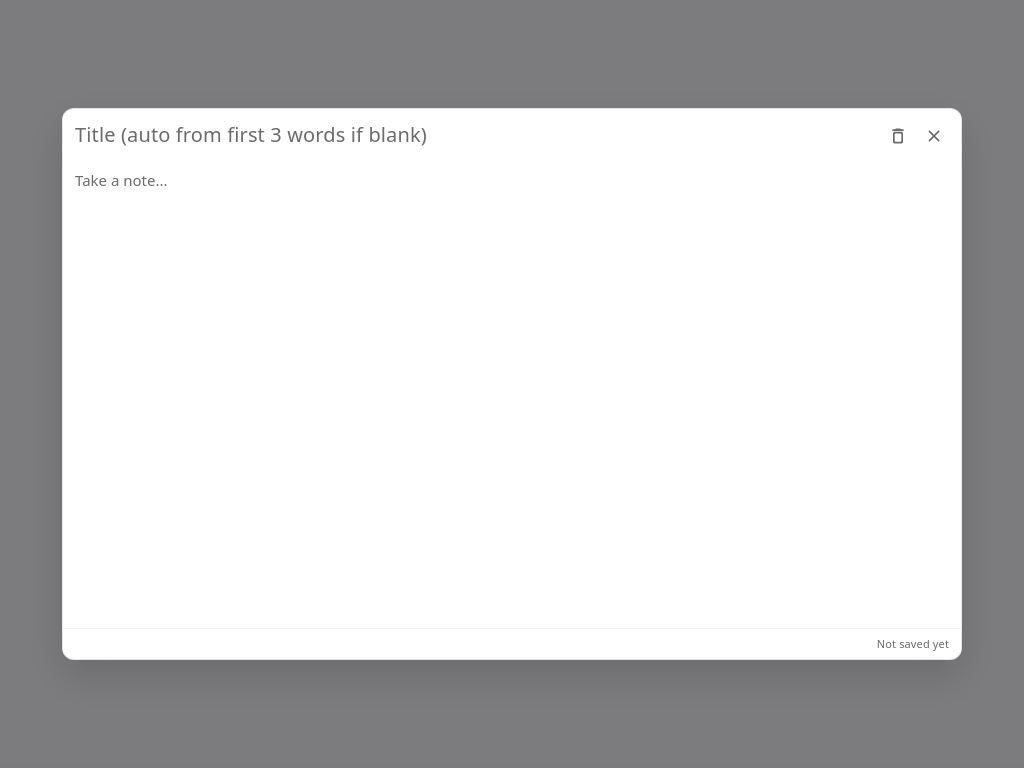
Test: ScratchPadEditor — plain Google-Keep surface › Cancel in the delete modal closes the confirm dialog but keeps the editor open
Click the button named "Delete tile". click: (898,136)
box: [883,121,913,151]
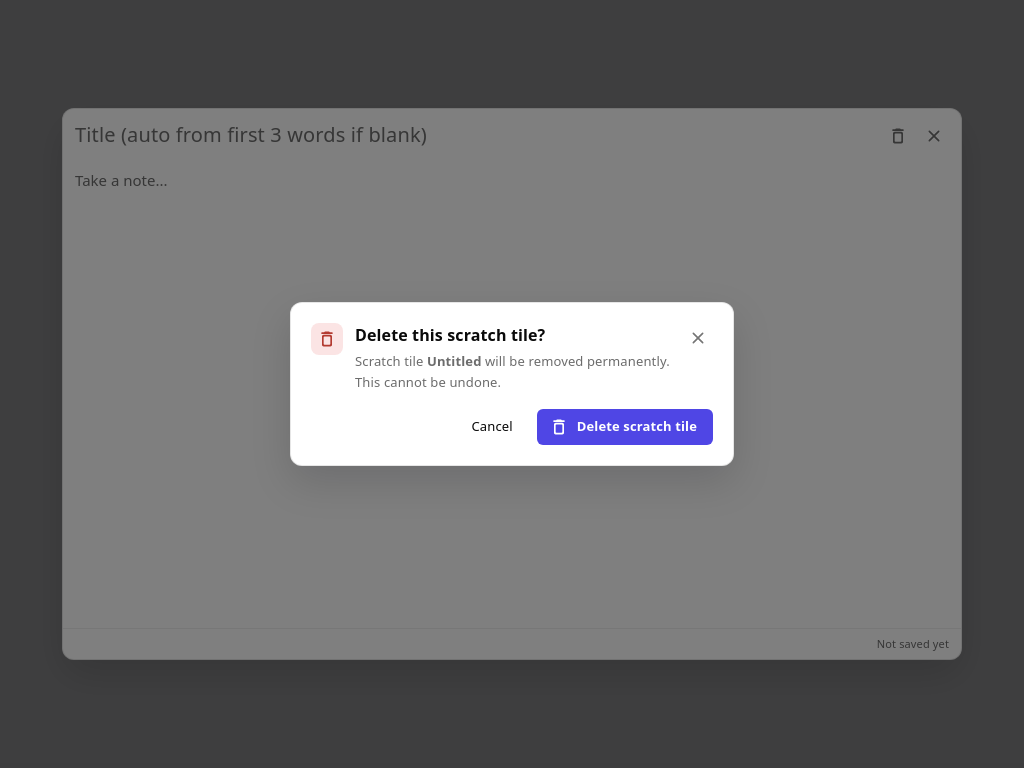
Click the button "Cancel". click: (492,427)
box: [456,409,529,445]
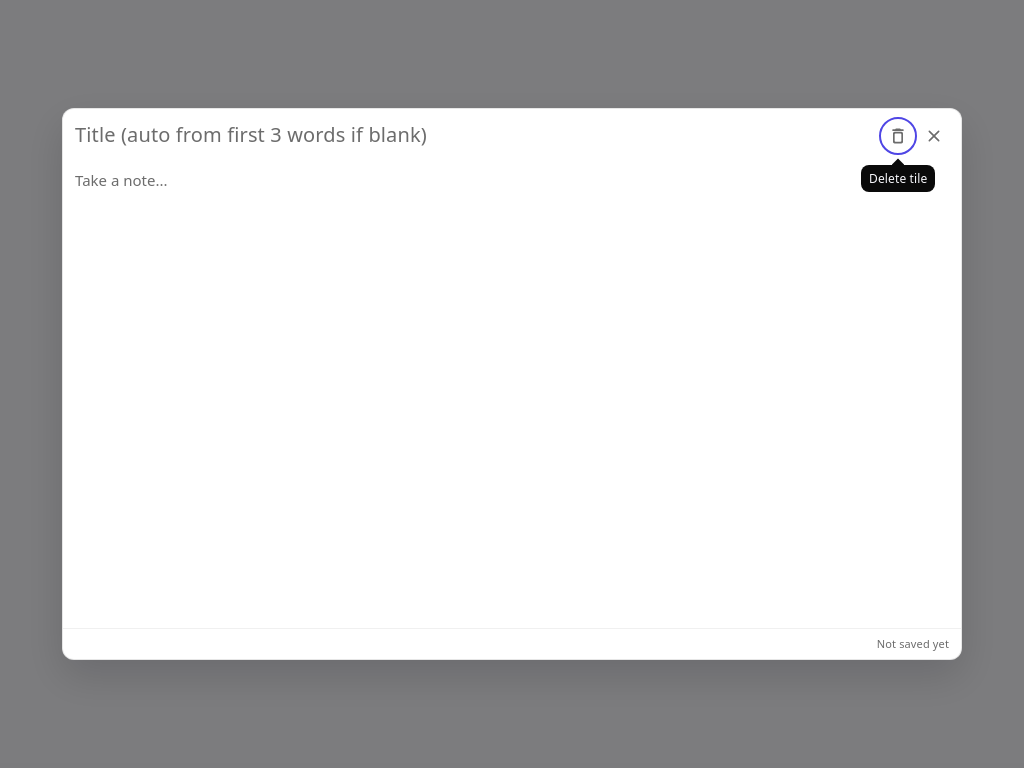
Now the text "Delete this scratch tile?" is gone
